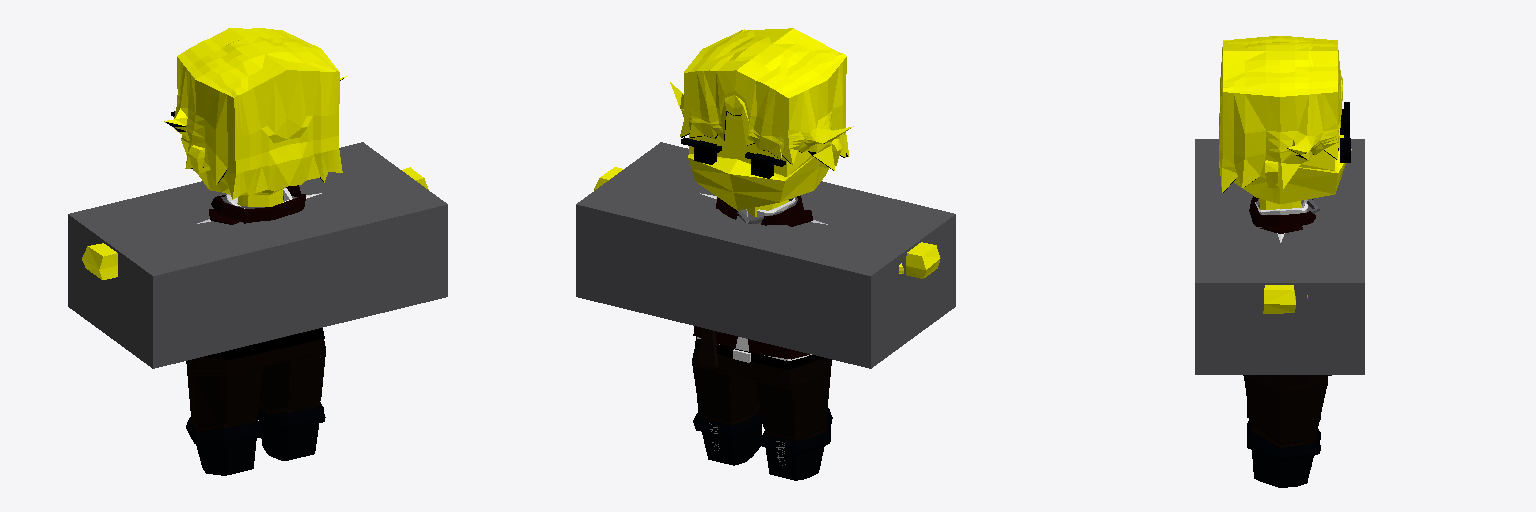
3 renders of one model, left to right at view 1: azimuth 30°, elevation 25°; view 2: azimuth 150°, elevation 25°; view 3: azimuth 270°, elevation 25°, orthographic.
Parts seen in each view (by area): view 1: Meta1q1pmrhe2lhei5hwituojqw443gn5zg2ir2lmycyljqfyydgq11, Startercharacter271, Startercharacter421, Startercharacter411, Startercharacter441, Startercharacter471, Startercharacter331, Startercharacter21, Startercharacter341, Startercharacter321, Startercharacter211; view 2: Meta1q1pmrhe2lhei5hwituojqw443gn5zg2ir2lmycyljqfyydgq11, Startercharacter271, Startercharacter211, Startercharacter421, Startercharacter411, Startercharacter441, Startercharacter471, Startercharacter21, Startercharacter331, Startercharacter321, Startercharacter341, Startercharacter51; view 3: Meta1q1pmrhe2lhei5hwituojqw443gn5zg2ir2lmycyljqfyydgq11, Startercharacter271, Startercharacter411, Startercharacter211, Startercharacter471, Startercharacter21, Startercharacter381, Startercharacter331.
Part boxes in pixels (left/top/right/bottom): Meta1q1pmrhe2lhei5hwituojqw443gn5zg2ir2lmycyljqfyydgq11: left=68, top=142, right=447, bottom=368; Startercharacter271: left=164, top=28, right=346, bottom=199; Startercharacter421: left=186, top=361, right=262, bottom=428; Startercharacter411: left=260, top=347, right=325, bottom=411; Startercharacter441: left=186, top=417, right=261, bottom=475; Startercharacter471: left=256, top=404, right=325, bottom=460; Startercharacter331: left=186, top=339, right=325, bottom=376; Startercharacter21: left=209, top=185, right=305, bottom=346; Startercharacter341: left=204, top=328, right=324, bottom=359; Startercharacter321: left=82, top=243, right=117, bottom=279; Startercharacter211: left=181, top=135, right=285, bottom=195; Meta1q1pmrhe2lhei5hwituojqw443gn5zg2ir2lmycyljqfyydgq11: left=576, top=142, right=955, bottom=368; Startercharacter271: left=670, top=28, right=853, bottom=170; Startercharacter211: left=688, top=112, right=841, bottom=210; Startercharacter421: left=755, top=359, right=831, bottom=436; Startercharacter411: left=692, top=352, right=758, bottom=421; Startercharacter441: left=759, top=408, right=832, bottom=480; Startercharacter471: left=693, top=408, right=762, bottom=465; Startercharacter21: left=693, top=196, right=812, bottom=359; Startercharacter331: left=692, top=348, right=831, bottom=389; Startercharacter321: left=899, top=242, right=940, bottom=278; Startercharacter341: left=695, top=337, right=823, bottom=369; Startercharacter51: left=698, top=328, right=717, bottom=367; Meta1q1pmrhe2lhei5hwituojqw443gn5zg2ir2lmycyljqfyydgq11: left=1195, top=139, right=1364, bottom=374; Startercharacter271: left=1219, top=36, right=1342, bottom=192; Startercharacter411: left=1244, top=375, right=1327, bottom=444; Startercharacter211: left=1234, top=129, right=1351, bottom=203; Startercharacter471: left=1247, top=418, right=1320, bottom=487; Startercharacter21: left=1249, top=196, right=1315, bottom=233; Startercharacter381: left=1263, top=285, right=1307, bottom=313; Startercharacter331: left=1243, top=375, right=1327, bottom=393.
Bounding box in the file's own units: 4.51 × 5.34 × 2.